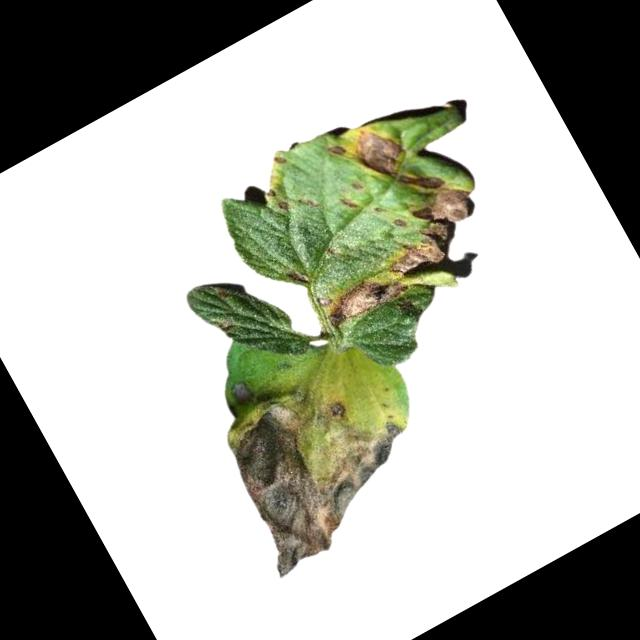Early_blight: (204, 354, 443, 581), (367, 175, 494, 284), (345, 106, 446, 216), (318, 263, 409, 335), (226, 376, 258, 410), (283, 262, 314, 294), (326, 137, 351, 163)
